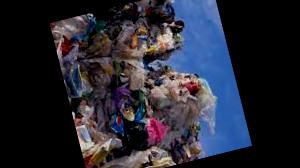Trash: (48, 0, 252, 168)
